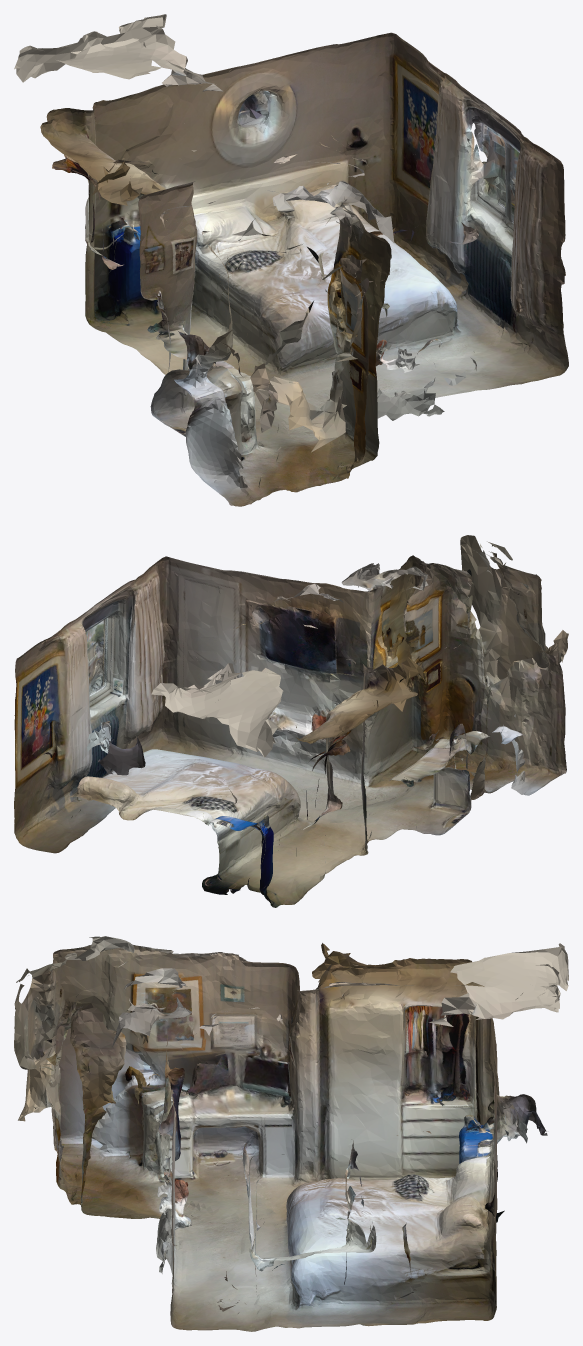
File: bed1-scan.glb
3 views of the same model, one above another, from view 1: azimuth 30°, elevation 25°; view 2: azimuth 150°, elevation 25°; view 3: azimuth 270°, elevation 25° (orthographic). The views are drawn at different scales.
Size of the model in its own units: 4.92 by 2.93 by 5.82.
3 materials, 3 textured.
